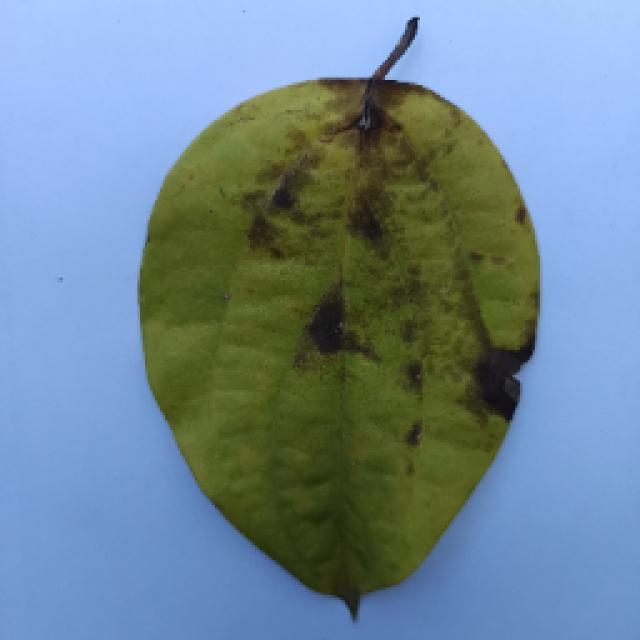slow-decline: (103, 32, 595, 620)
